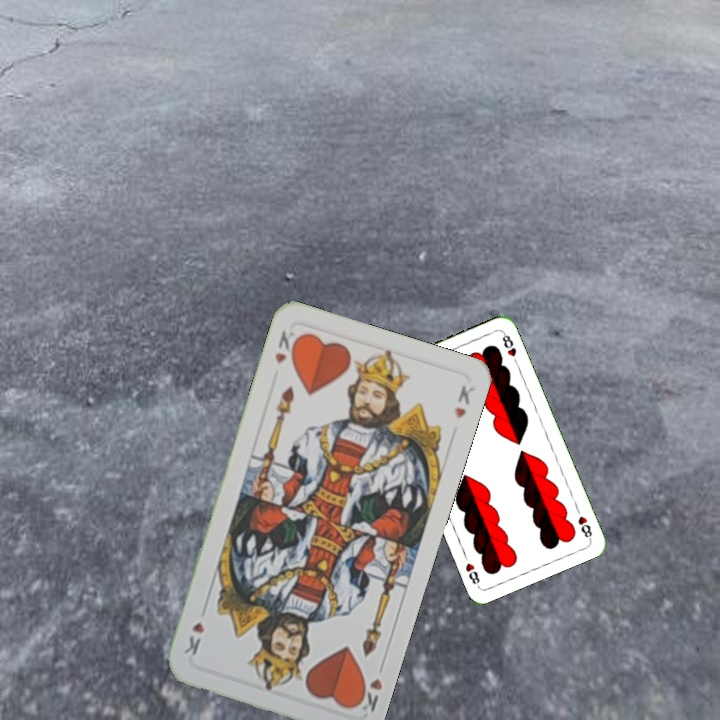H8: (574, 512, 595, 542)
HK: (352, 658, 387, 715), (270, 326, 302, 366)
